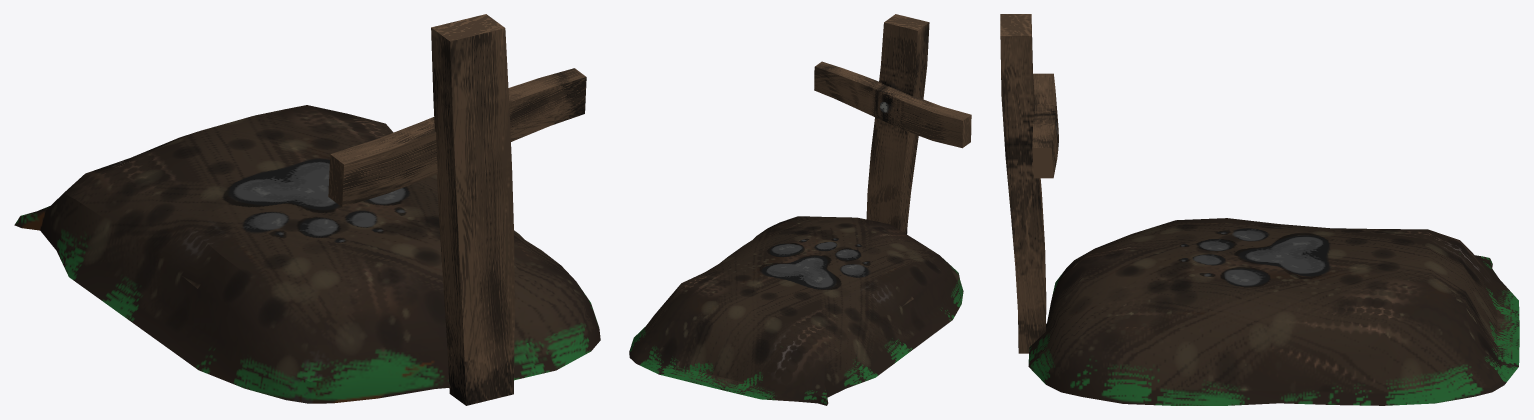
Rendered from grave.fbx.
3 renders of one model, left to right at view 1: azimuth 30°, elevation 25°; view 2: azimuth 150°, elevation 25°; view 3: azimuth 270°, elevation 25°, orthographic. The views are drawn at different scales.
Parts seen in each view (by area): view 1: Cube, Cube.001, Cube.002; view 2: Cube, Cube.001, Cube.002; view 3: Cube, Cube.001, Cube.002.
Part boxes in pixels (x1,y1,x2,y2): Cube: (14, 105, 600, 403); Cube.001: (431, 14, 514, 405); Cube.002: (328, 68, 586, 207); Cube: (629, 216, 963, 405); Cube.001: (866, 14, 929, 234); Cube.002: (814, 61, 971, 148); Cube: (1028, 218, 1519, 405); Cube.001: (1000, 14, 1046, 353); Cube.002: (1032, 73, 1058, 178).
Bounding box in the file's own units: 329 × 323 × 491.
Materials: 2 (2 with a texture image).
